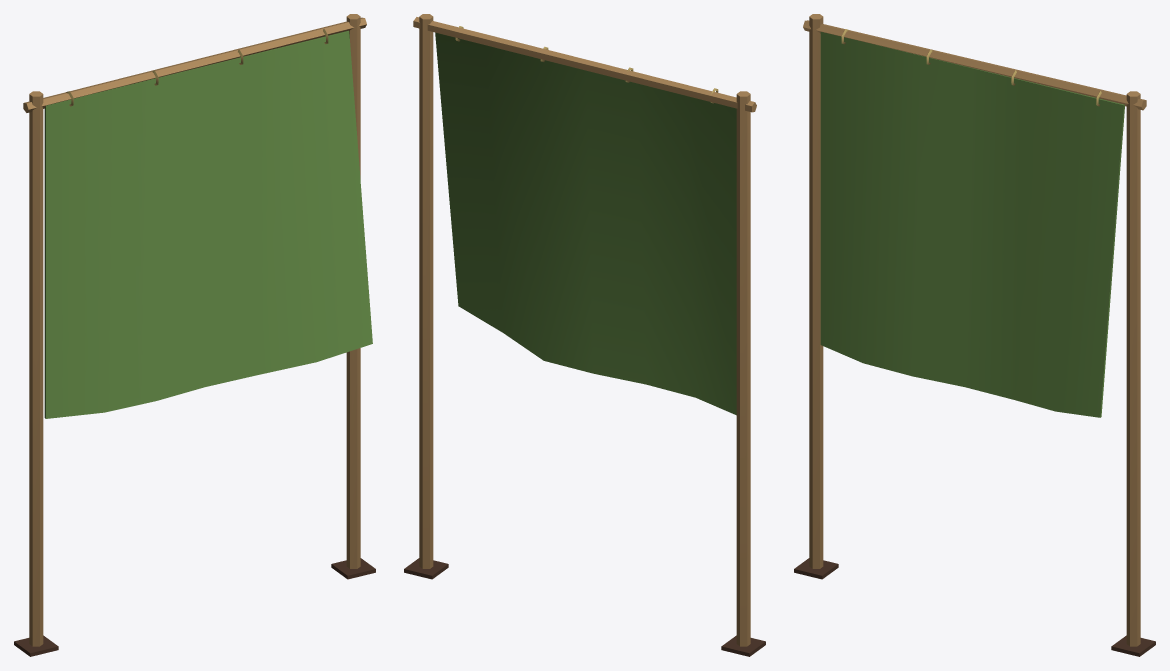
File: scaffold_tarp.glb
3 renders of one model, left to right at view 1: azimuth 30°, elevation 25°; view 2: azimuth 150°, elevation 25°; view 3: azimuth 330°, elevation 25°, orthographic.
Visible parts, largest first — view 1: tarp, scaffold_tarp; view 2: tarp, scaffold_tarp; view 3: tarp, scaffold_tarp.
Part boxes in pixels (x1,y1,x2,y2): tarp: (44,29,372,418); scaffold_tarp: (14,14,375,656); tarp: (435,26,736,415); scaffold_tarp: (404,14,765,656); tarp: (820,29,1124,417); scaffold_tarp: (794,14,1155,656).
Bounding box in the file's own units: 1.96 × 3 × 0.3384.
